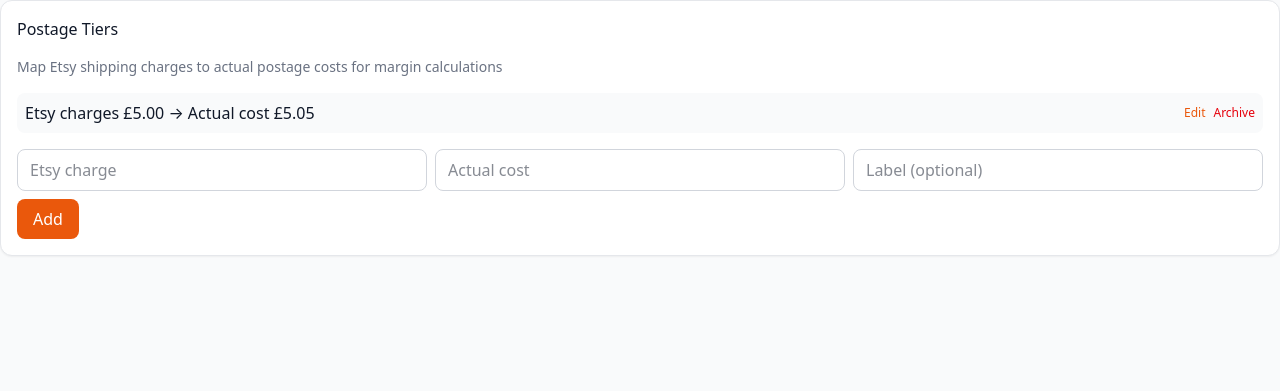
PostageTiersSection › keeps the draft and shows a charge conflict beside the field
Click the button with aria-label "Edit £5.00 tier" at (1195, 113), box [1184, 105, 1206, 121]
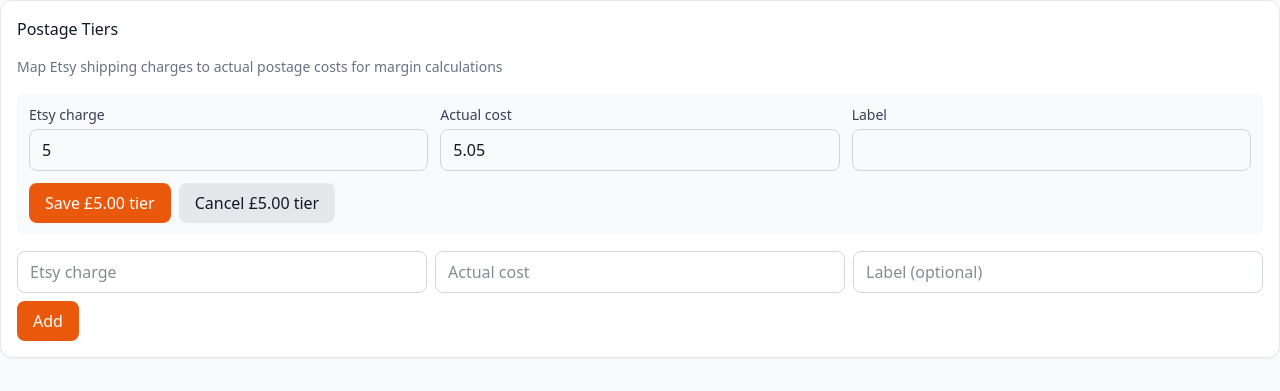
Replace the text in the number field labelled "Etsy charge" below "Actual cost" with "5.50" at (229, 150), box [29, 129, 428, 171]
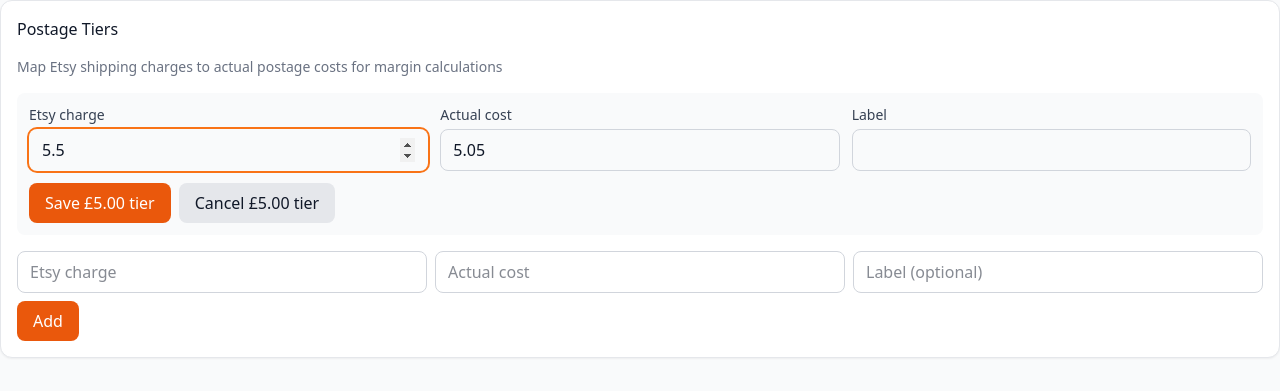
Click the button "Save £5.00 tier" at (100, 203), box [29, 183, 171, 223]
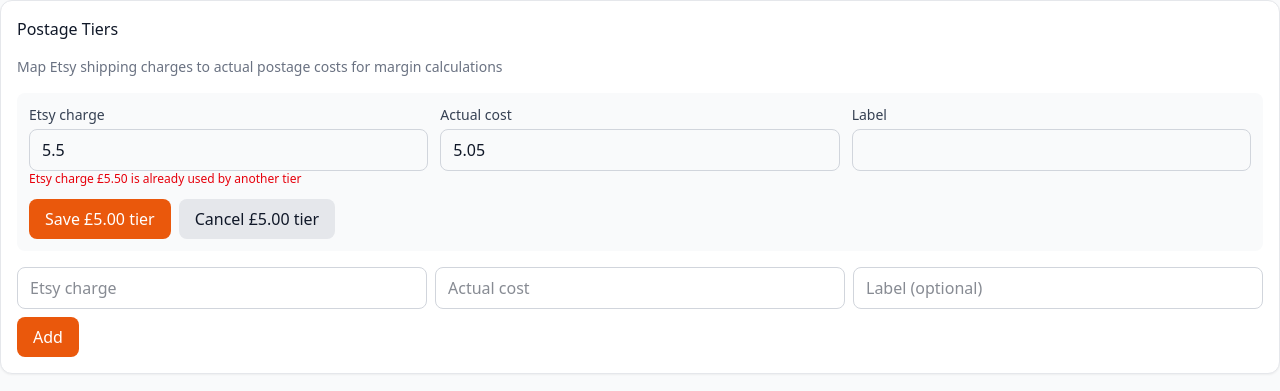
Expected: the number field labelled "Etsy charge" below "Actual cost" holds "5.5", [29, 129, 428, 171]
Expected: the button "Save £5.00 tier" is shown, [29, 199, 171, 239]
Expected: the text "Etsy charge £5.50 is already used by another tier" is shown, [29, 170, 301, 187]
